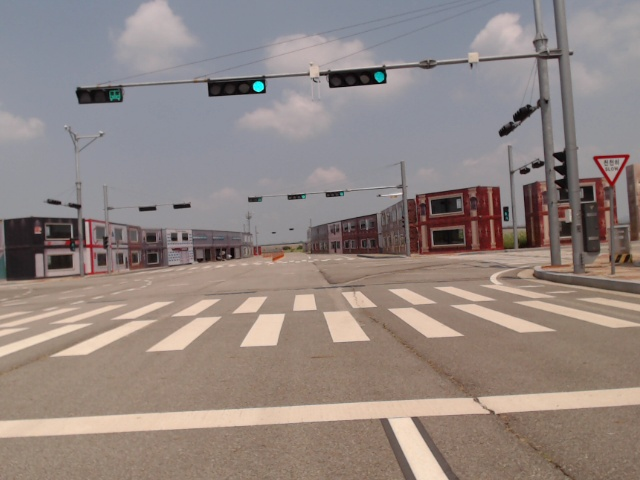straight_green_4: (330, 66, 386, 87), (209, 77, 266, 96), (286, 194, 307, 201), (326, 190, 344, 198)
